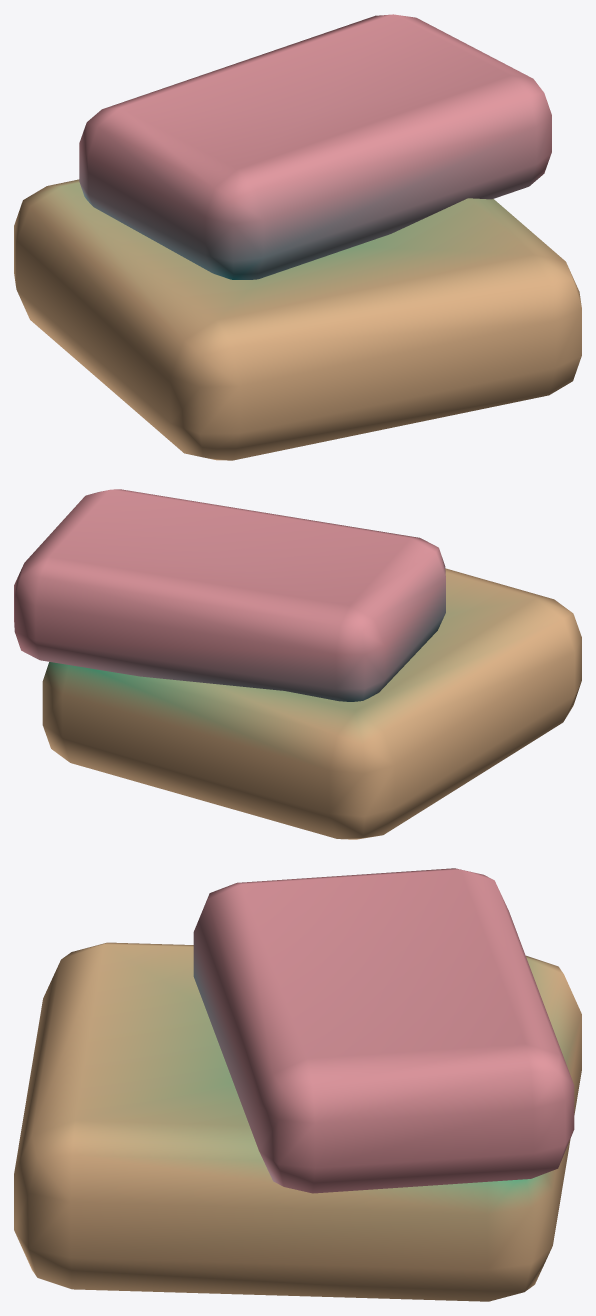
The model's file is CI_Living_Cushion_Pair.glb.
3 views of the same model, one above another, from view 1: azimuth 30°, elevation 25°; view 2: azimuth 150°, elevation 25°; view 3: azimuth 270°, elevation 25° (orthographic). The views are drawn at different scales.
Visible parts, largest first — view 1: CI_Living_Cushion_Pair; view 2: CI_Living_Cushion_Pair; view 3: CI_Living_Cushion_Pair.
Part boxes in pixels (<box>): CI_Living_Cushion_Pair: <box>14,14,581,460</box>; CI_Living_Cushion_Pair: <box>14,489,581,839</box>; CI_Living_Cushion_Pair: <box>14,868,581,1301</box>.
Size of the model in its own units: 0.5128 by 0.245 by 0.4626.
